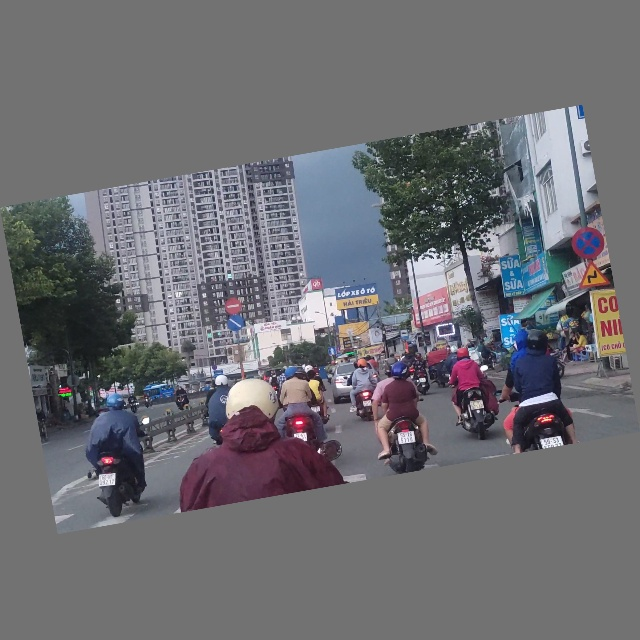I.407a: (328, 347, 337, 356)
I.434a: (399, 329, 409, 341)
P.102: (224, 297, 243, 316)
P.130: (570, 224, 608, 262)
R.302a: (226, 315, 245, 333)
W.202b: (575, 259, 612, 292)
